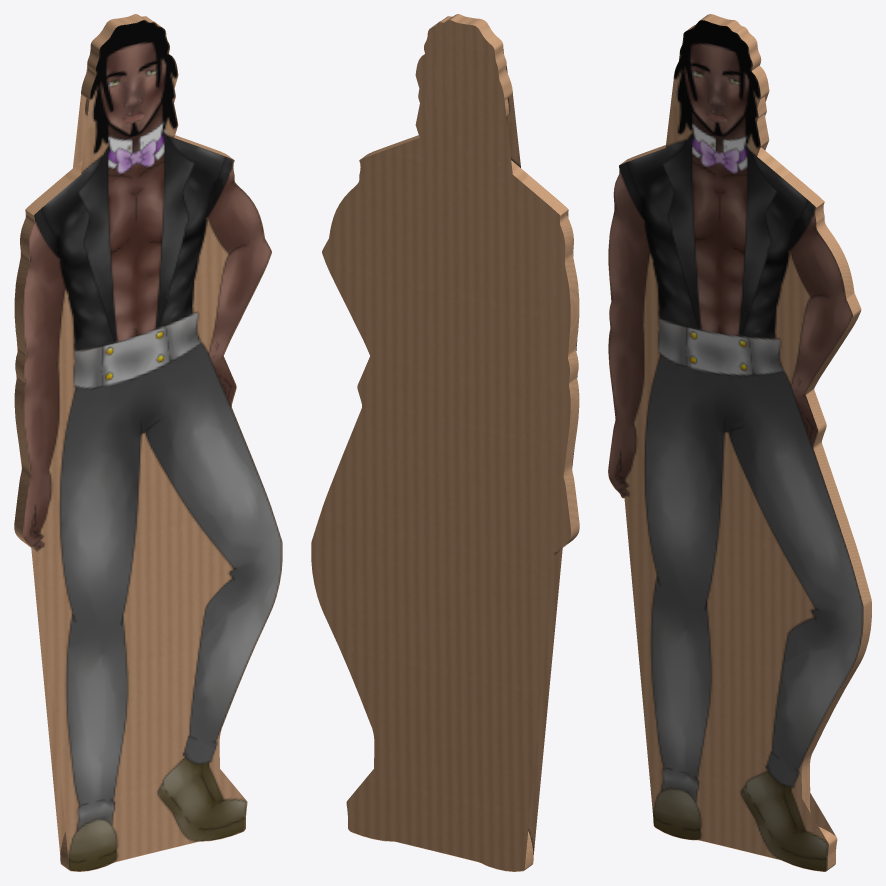
Rendered from Agent 1.fbx.
3 renders of one model, left to right at view 1: azimuth 30°, elevation 25°; view 2: azimuth 150°, elevation 25°; view 3: azimuth 330°, elevation 25°, orthographic.
Parts seen in each view (by area): view 1: svgMesh1; view 2: svgMesh1; view 3: svgMesh1.
Part boxes in pixels (x1=…): svgMesh1: x1=14, y1=14, x2=282, y2=871; svgMesh1: x1=311, y1=14, x2=579, y2=871; svgMesh1: x1=608, y1=14, x2=871, y2=871.
Bounding box in the file's own units: 6.41 × 19.75 × 0.357.
Materials: 1 (1 with a texture image).
